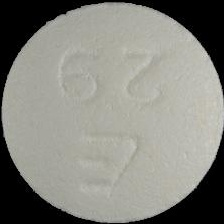21695-845: (0, 0, 224, 224)
